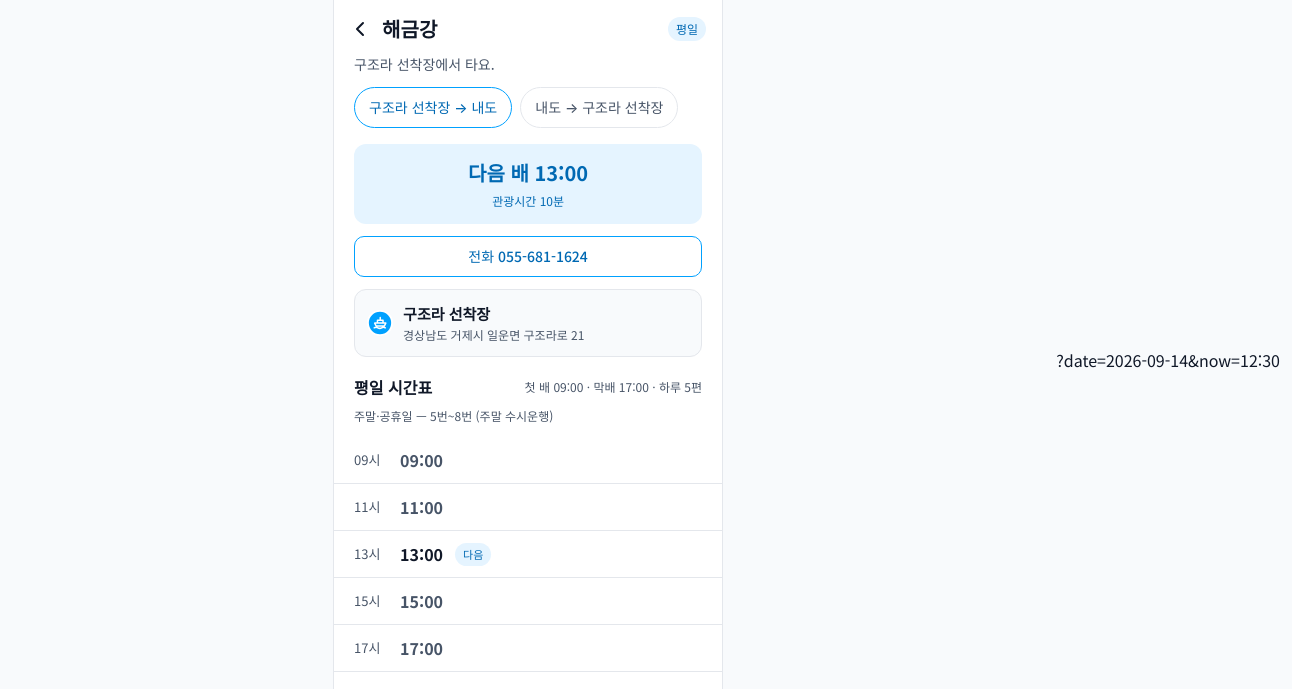
Test: SpotTimetablePage — 도선 (2026-09-15 내도 · 지심도) › 섬 스팟은 들어가는 배 · 나오는 배 칩뿐 — 버스를 묻지 않고, 다음 배를 짚는다
Check: the text "구조라 선착장에서 타요." is shown, box x1=354 y1=54 x2=495 y2=74
Check: the text "다음 배 13:00" is shown, box x1=468 y1=158 x2=588 y2=188
Click the button "내도 → 구조라 선착장" at x=599, y=108, box x1=520 y1=87 x2=678 y2=128
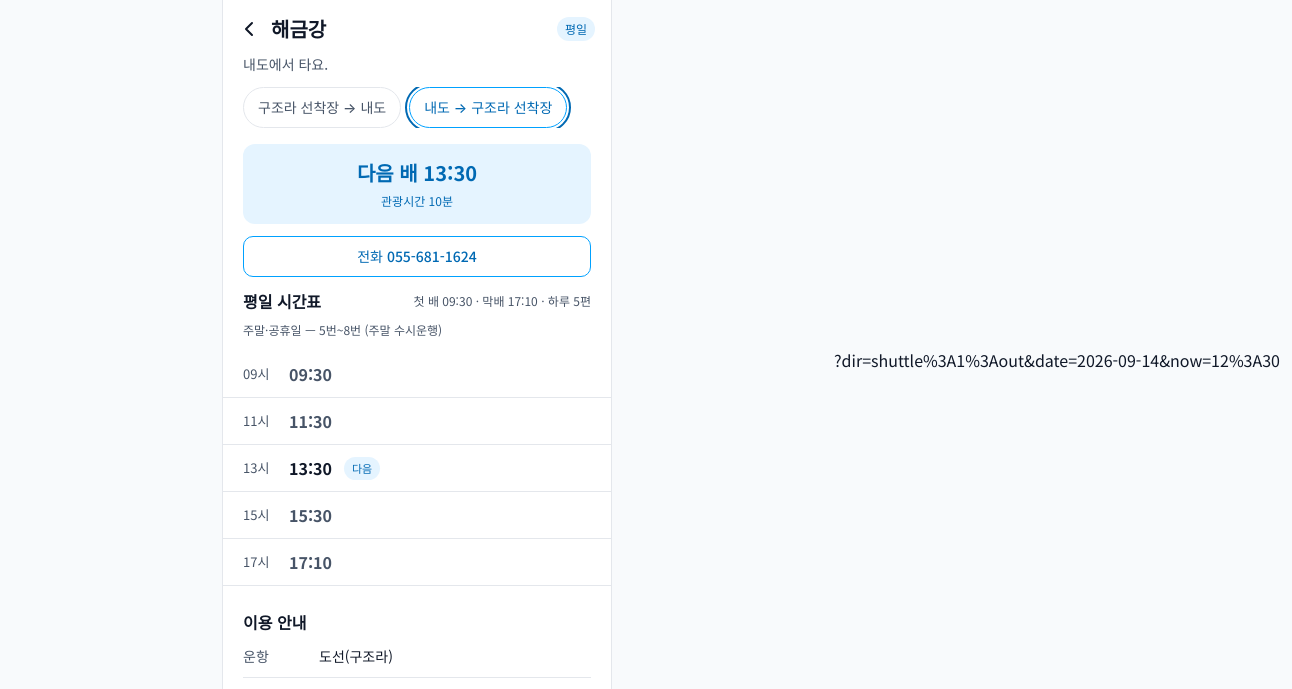
Check: the text "내도에서 타요." is shown, box x1=243 y1=54 x2=328 y2=74
Check: the text "다음 배 13:30" is shown, box x1=357 y1=158 x2=477 y2=188
Check: the text "17:10" is shown, box x1=289 y1=550 x2=332 y2=574
